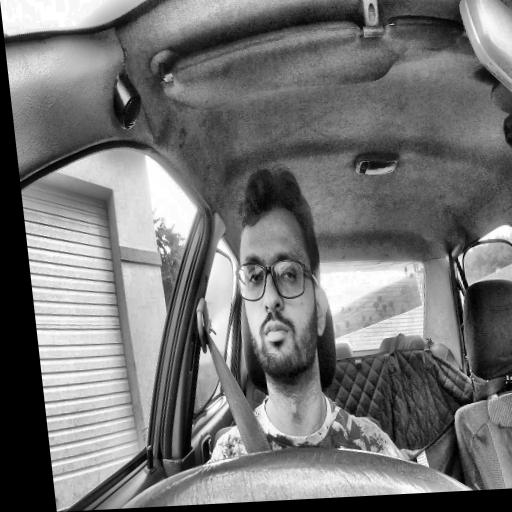awake: (223, 166, 336, 383)
